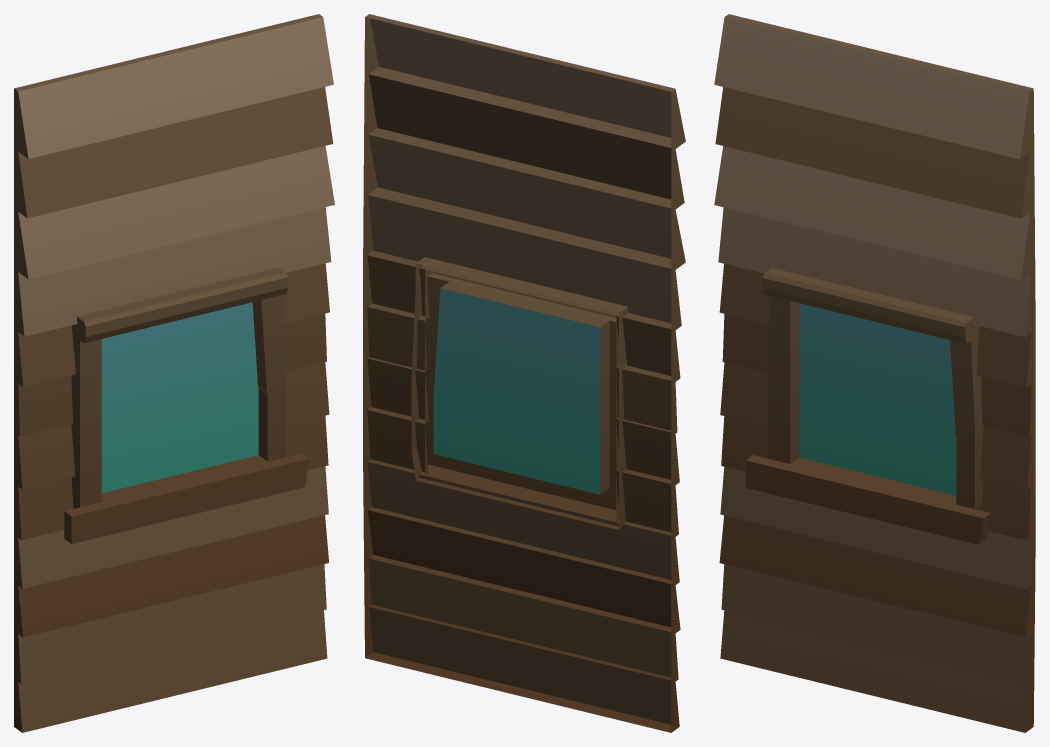
Rendered from Wall_04.fbx.
3 renders of one model, left to right at view 1: azimuth 30°, elevation 25°; view 2: azimuth 150°, elevation 25°; view 3: azimuth 330°, elevation 25°, orthographic.
Visible parts, largest first — view 1: Plane.060; view 2: Plane.060; view 3: Plane.060.
Boxes of the visible parts, <box> form: Plane.060: <box>14,14,334,732</box>; Plane.060: <box>363,14,685,732</box>; Plane.060: <box>714,14,1035,732</box>.
Size of the model in its own units: 157 by 313 by 18.05.
